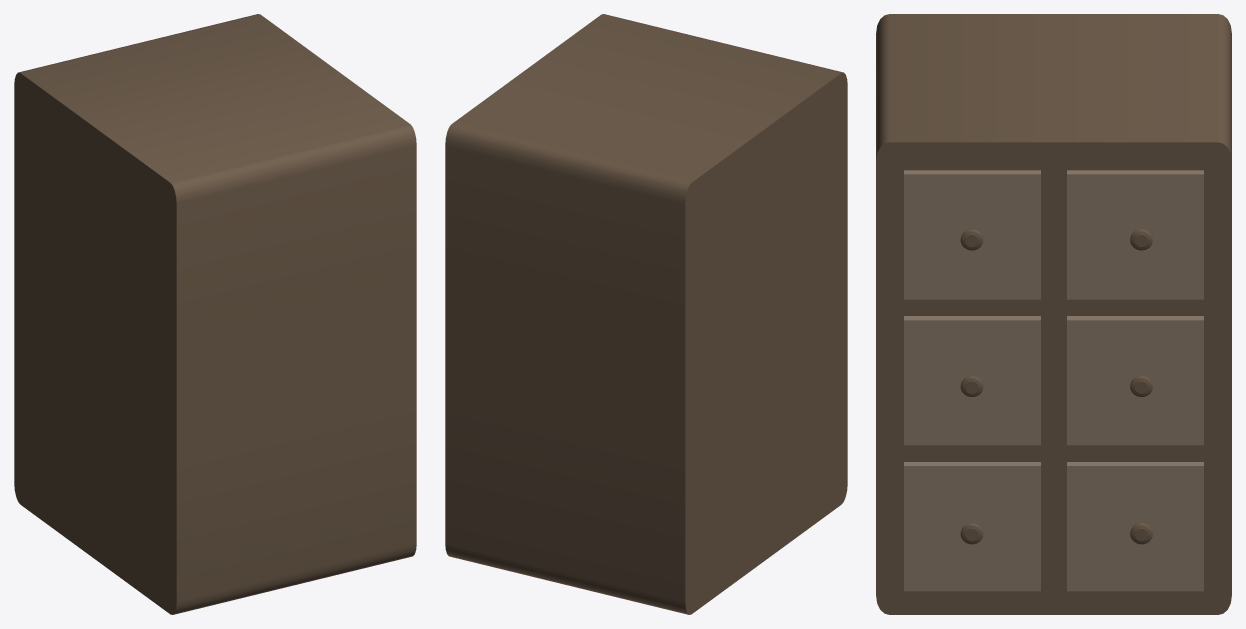
File: Cabinet1.fbx
3 renders of one model, left to right at view 1: azimuth 30°, elevation 25°; view 2: azimuth 150°, elevation 25°; view 3: azimuth 270°, elevation 25°, orthographic. The views are drawn at different scales.
Parts seen in each view (by area): view 1: Cube; view 2: Cube; view 3: Cube, Cube.001, Cylinder.
Boxes of the visible parts, left/top/right/bottom form: Cube: left=14, top=14, right=416, bottom=614; Cube: left=445, top=14, right=847, bottom=614; Cube: left=876, top=14, right=1231, bottom=614; Cube.001: left=904, top=170, right=1203, bottom=591; Cylinder: left=960, top=229, right=1152, bottom=544.
Bounding box in the file's own units: 215 × 344 × 234.
